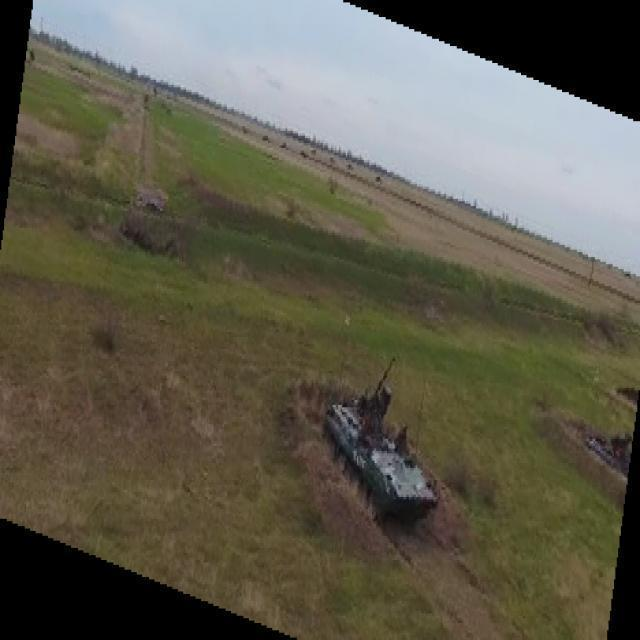Tanks: (320, 384, 440, 528)
